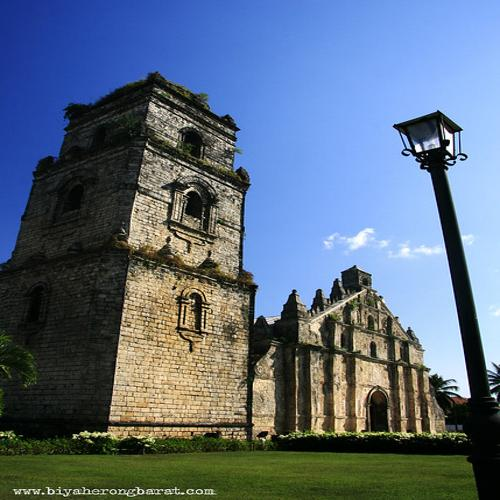Paoay Church: (5, 68, 463, 450)
